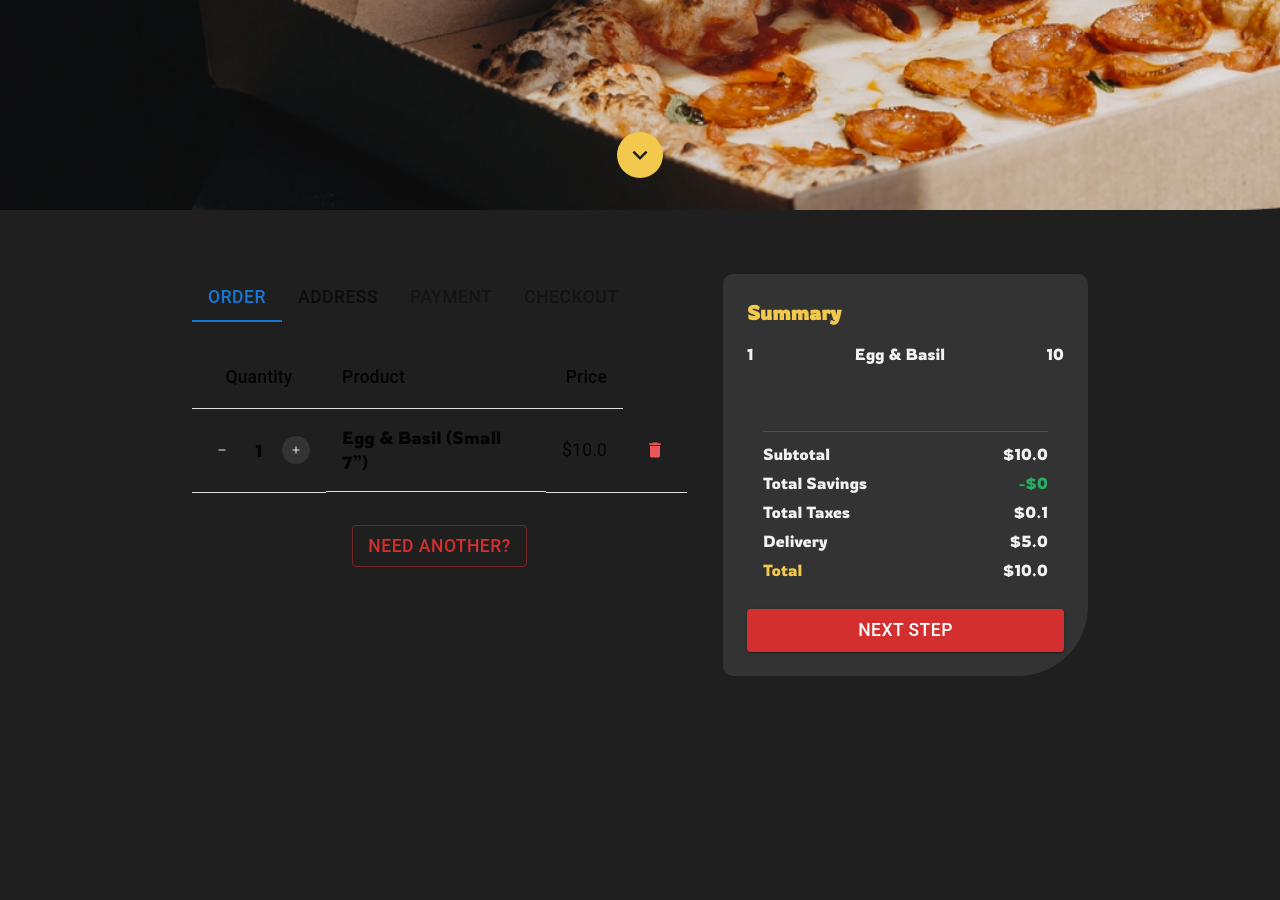
Test: OrderTableComponent › should open remove modal and remove product from cart on confirm
(page scrolled)
Click the button with test id "product-item-delete".
click(655, 450)  # box [639, 439, 671, 461]
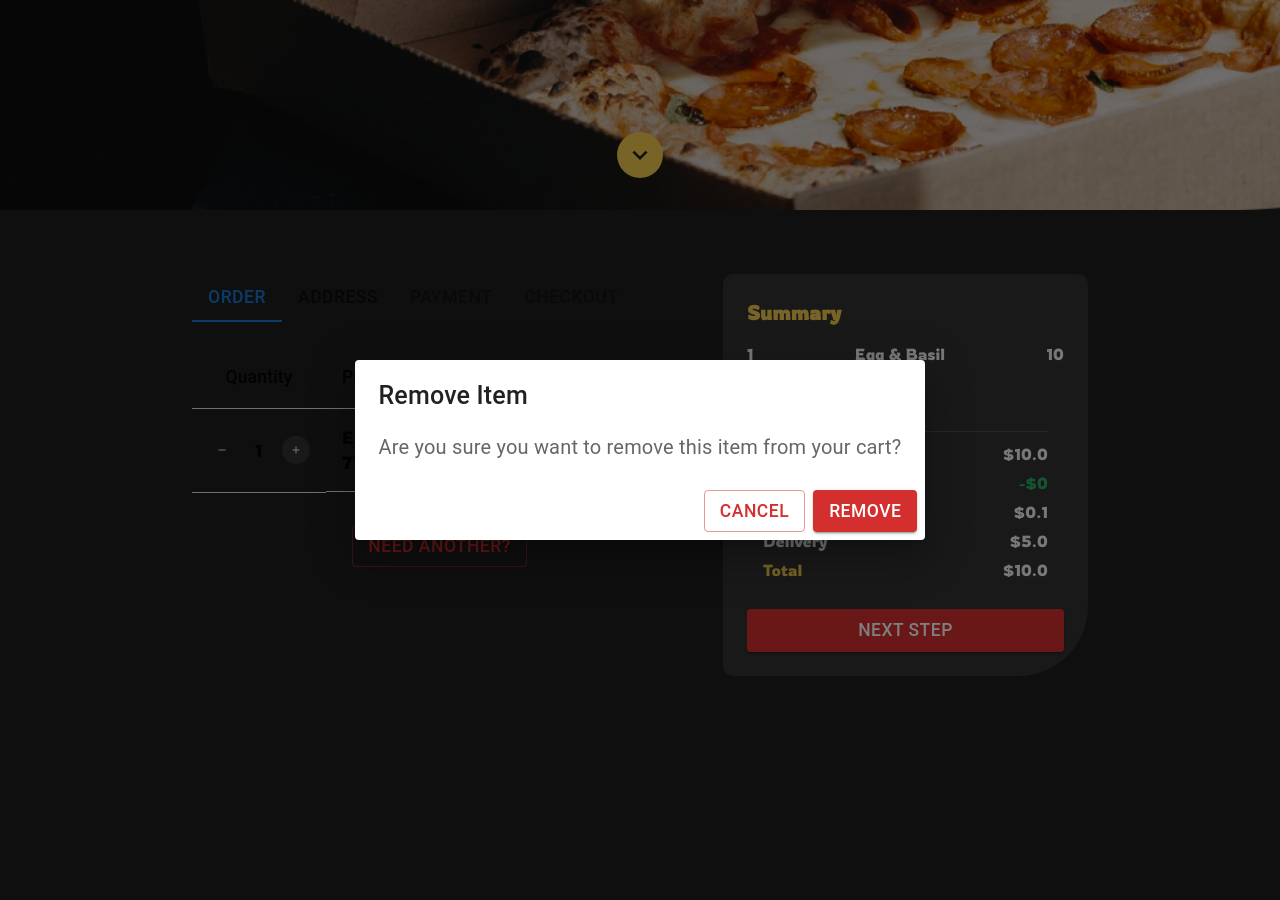
expect the element with test id "remove-dialog" is shown: met
Click the button "Remove".
click(865, 511)  # box [813, 490, 918, 532]
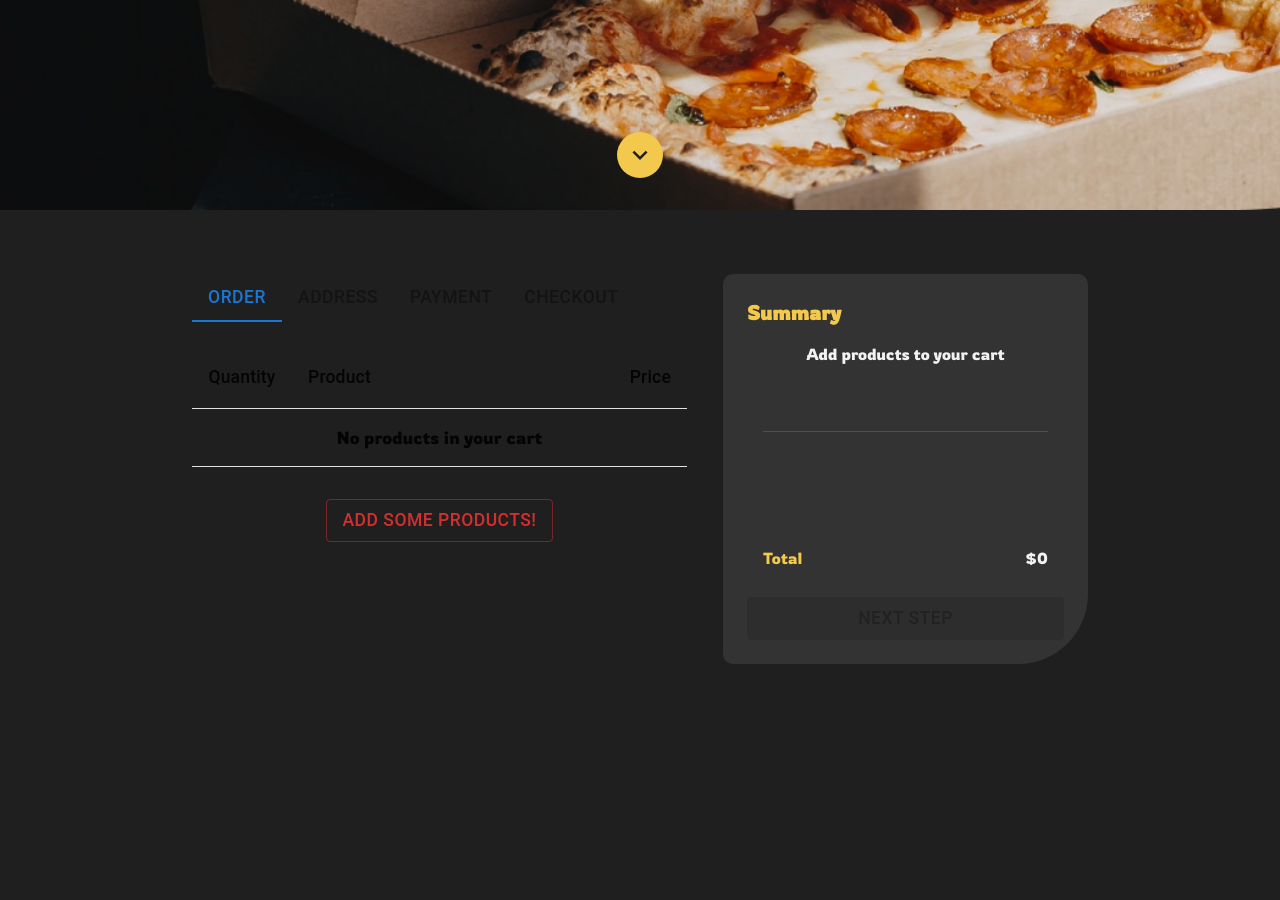
expect the text "No products in your cart" is shown: met, box [336, 427, 543, 448]
